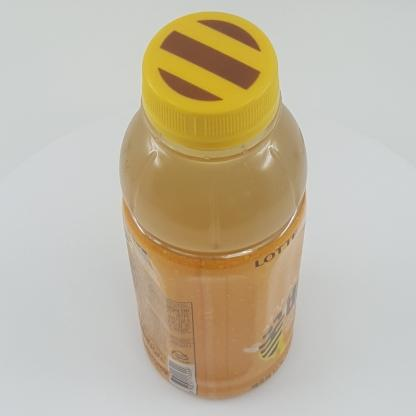--------380ML: (119, 12, 307, 399)
